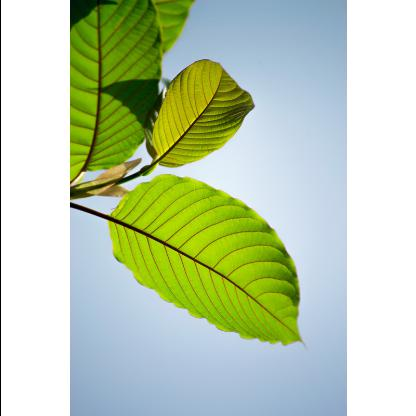kratom: (105, 176, 317, 370)
